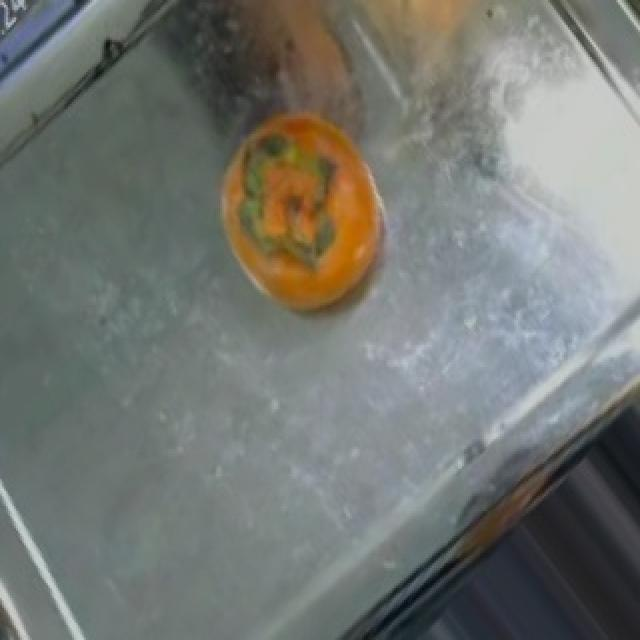Fruit: (200, 85, 410, 332)
